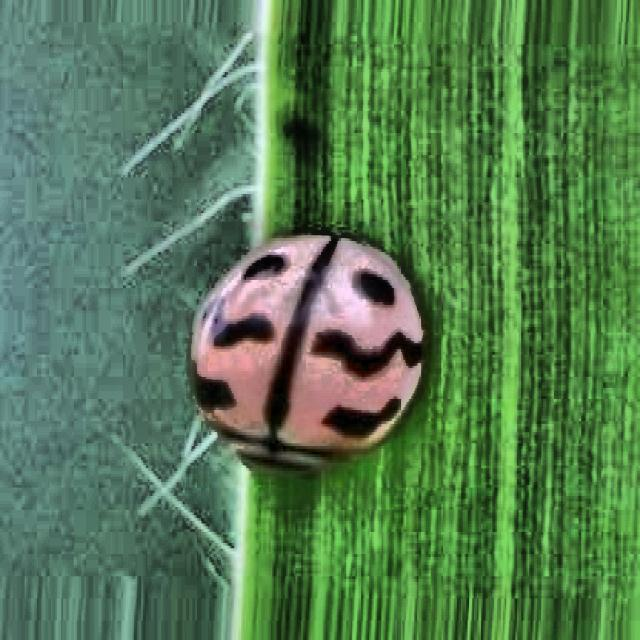Asian-Lady-beetle: (185, 127, 506, 640)
